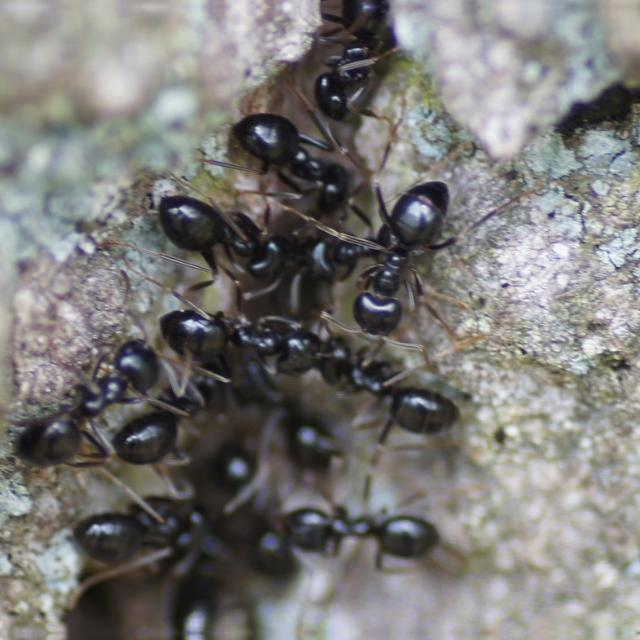Lasius: (342, 173, 492, 344), (312, 312, 486, 444), (0, 329, 156, 475), (221, 72, 347, 226), (166, 274, 330, 390), (48, 475, 212, 579), (154, 170, 292, 290), (288, 489, 426, 576), (121, 357, 213, 483), (306, 6, 382, 136)
